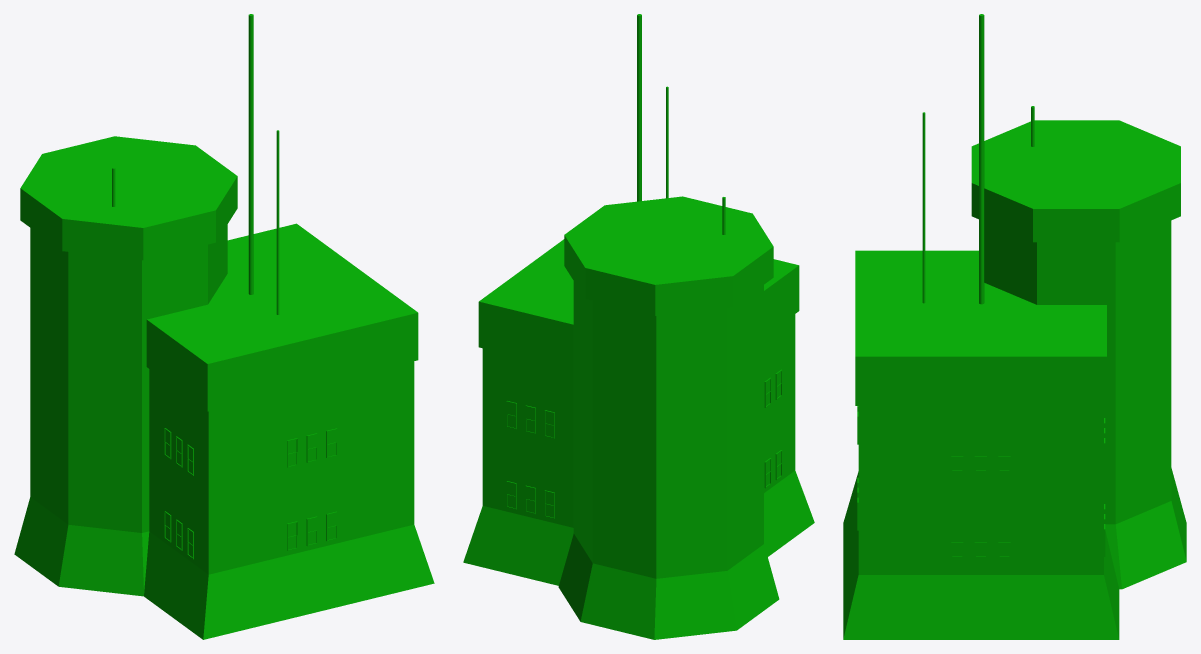
The model's file is SignalHill.gltf.
3 views of the same model, side by side, from view 1: azimuth 30°, elevation 25°; view 2: azimuth 150°, elevation 25°; view 3: azimuth 270°, elevation 25° (orthographic). The views are drawn at different scales.
Parts seen in each view (by area): view 1: Signalhill; view 2: Signalhill; view 3: Signalhill.
Boxes of the visible parts, <box> form: Signalhill: <box>14,14,434,639</box>; Signalhill: <box>463,14,814,639</box>; Signalhill: <box>843,14,1186,639</box>.
Size of the model in its own units: 1110 by 2037 by 1120.
